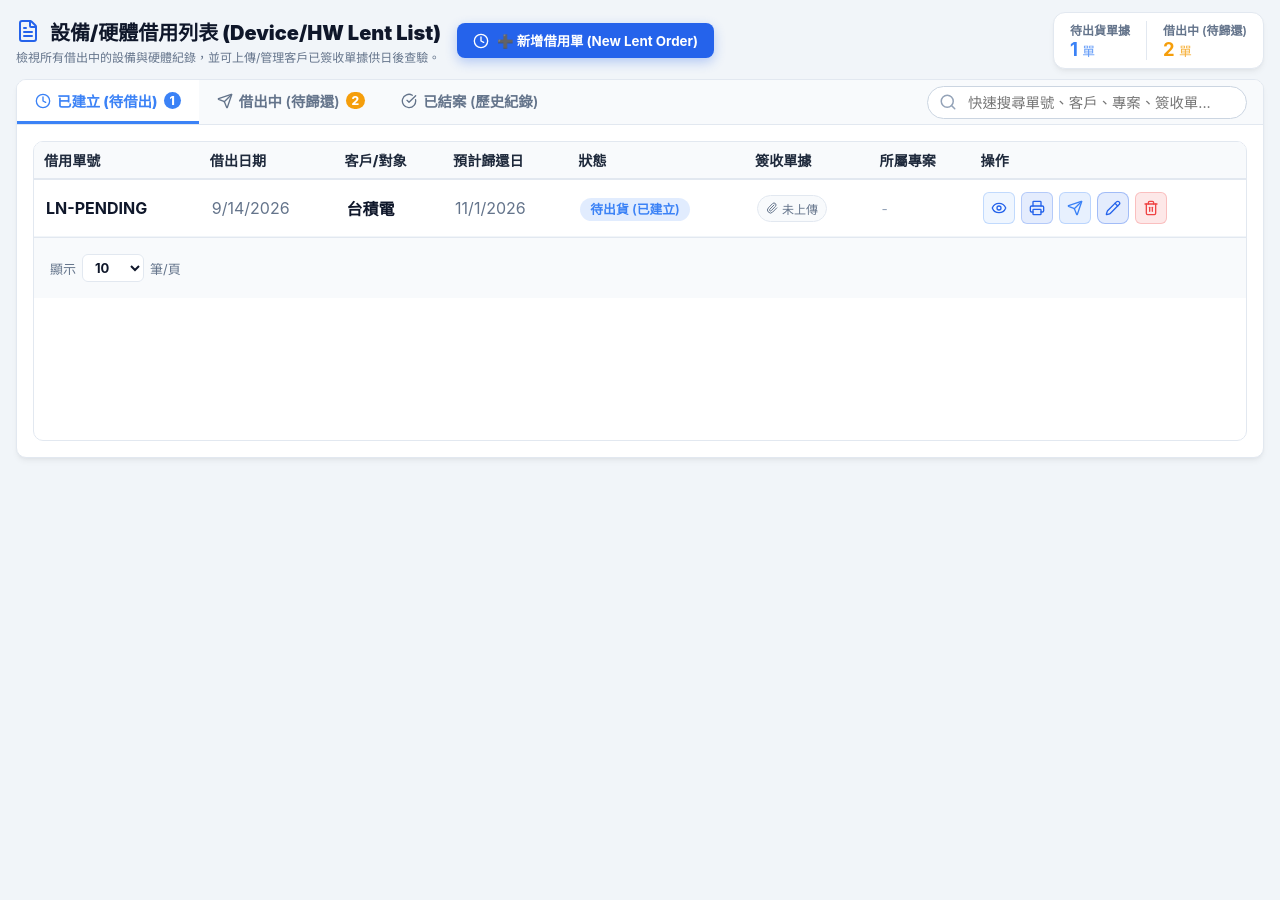
借用列表上延長 › 預設往後延 7 天，可一鍵改成 +14／+30 天
The image size is (1280, 900).
Expected: the text "LN-PENDING" is shown, [34,179,200,236]
Click the button "借出中 (待歸還) 2" at point(291, 102), box [199,80,383,124]
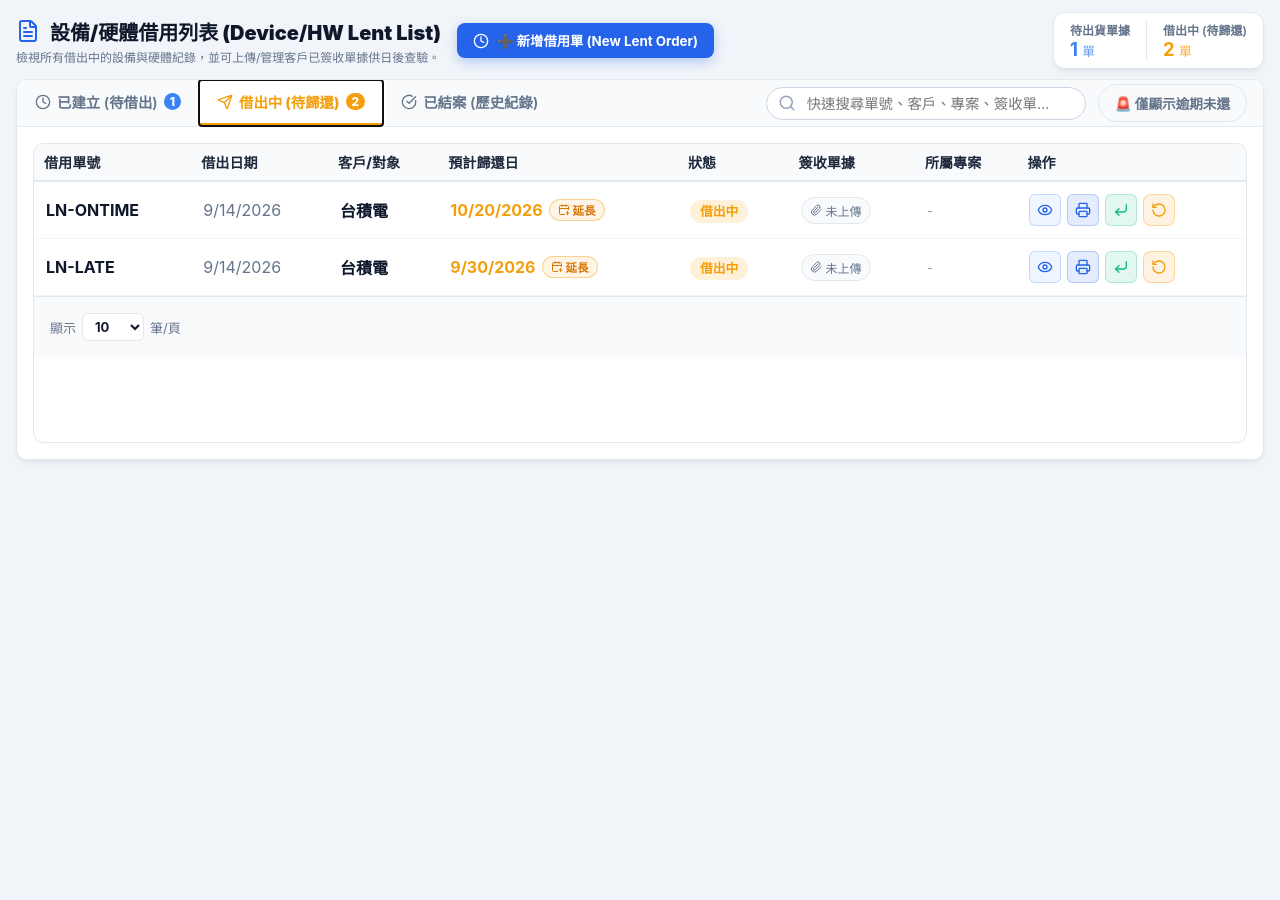
Expected: the text "LN-ONTIME" is shown, [34,181,191,238]
Click the button with aria-label "延長預計歸還日 LN-ONTIME" at point(576, 210), box [548,199,604,221]
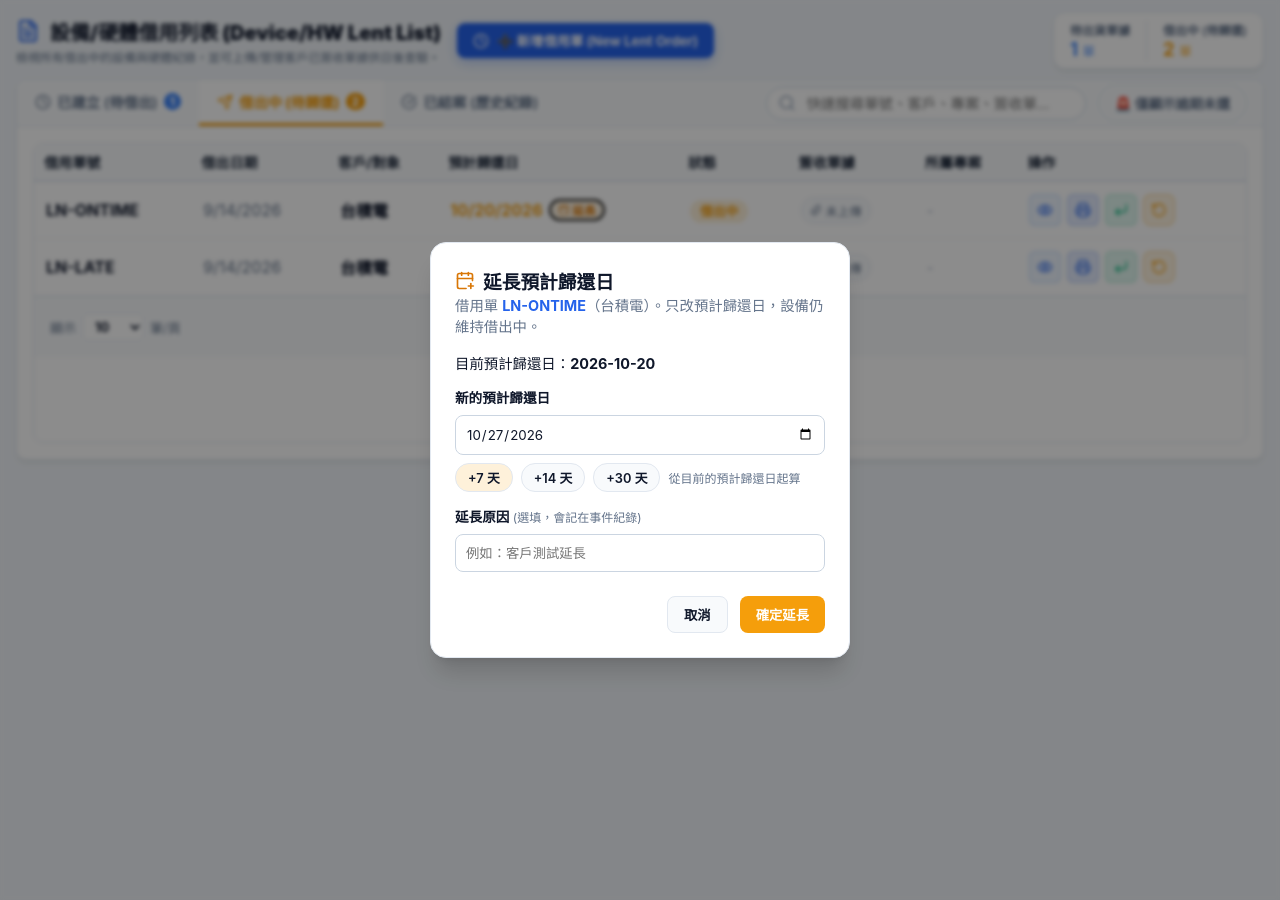
Expected: the element with test id "extend-current" shows "2026-10-20", [570,355,655,372]
Expected: the date field labelled "新的預計歸還日" holds "2026-10-27", [455,415,825,455]
Click the button "+30 天" at point(627, 478), box [593,463,660,492]
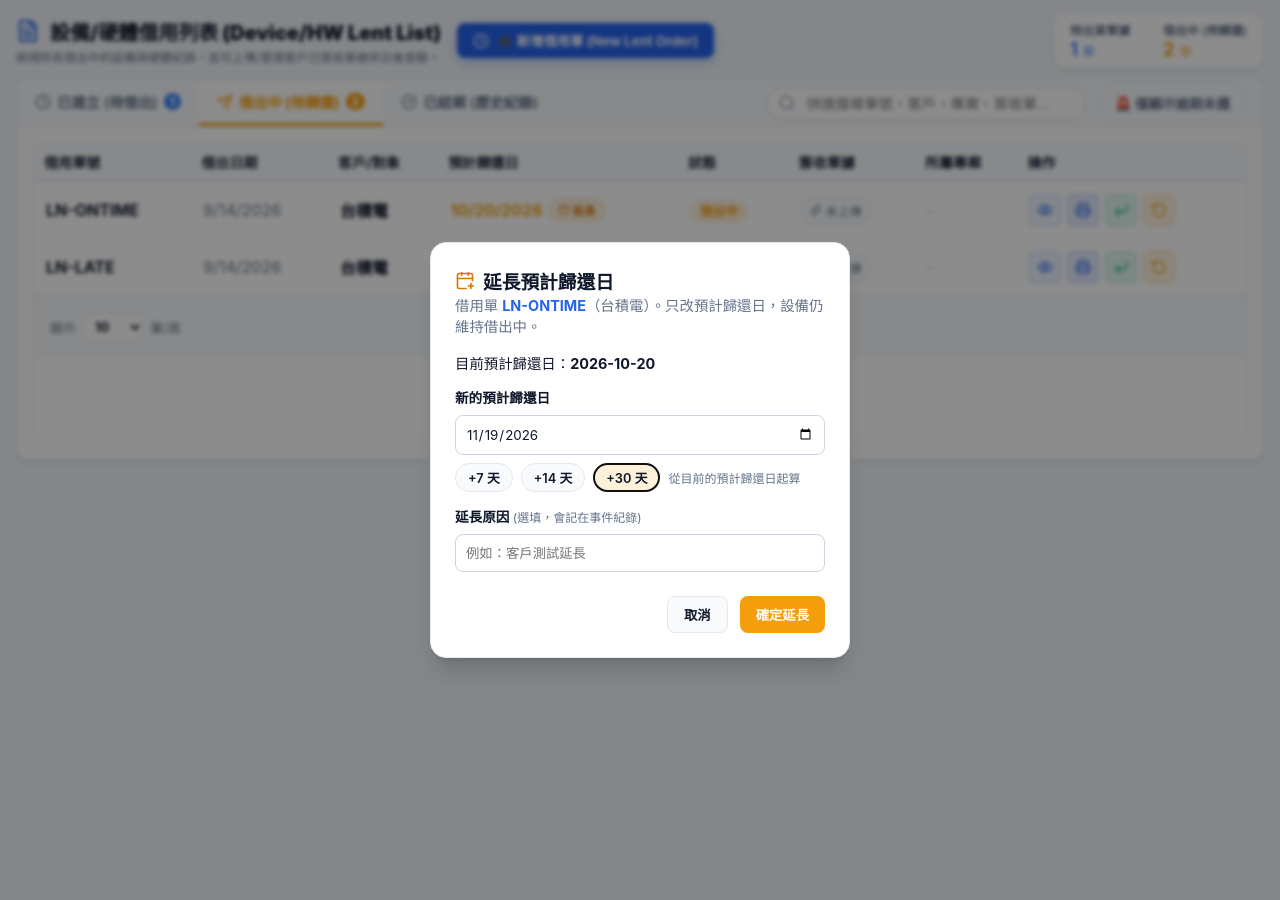
Expected: the date field labelled "新的預計歸還日" holds "2026-11-19", [455,415,825,455]
